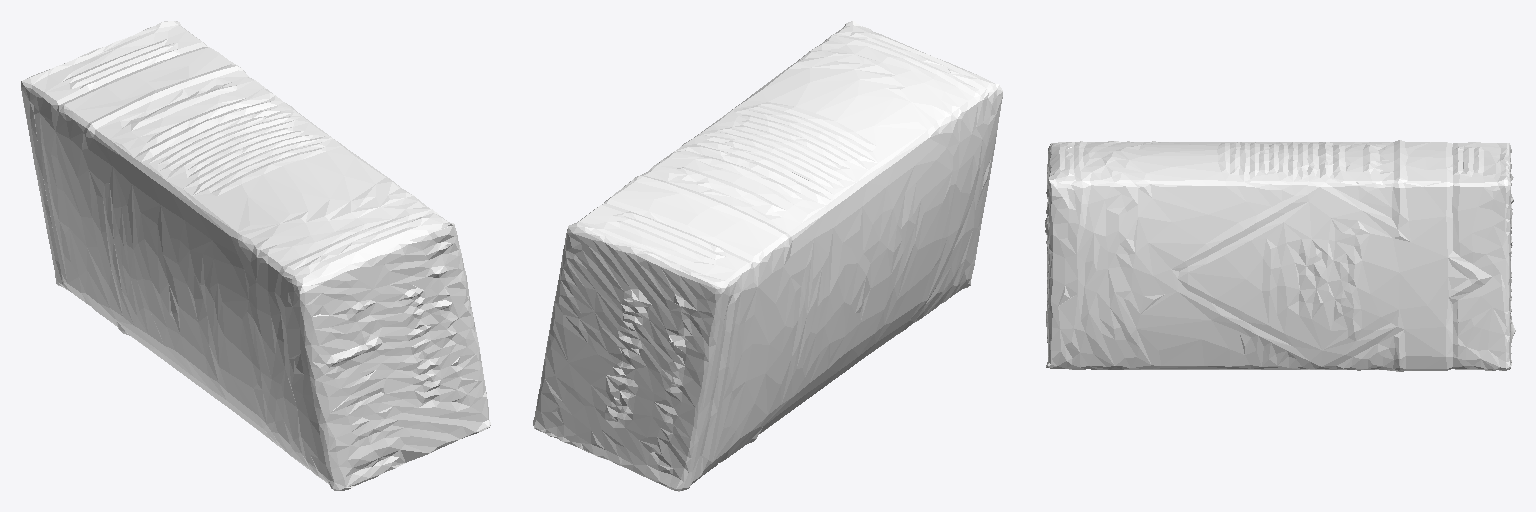
URDF robot description (BlueSaltCube_5k_tex):
<?xml version="1.0" ?>
<robot name="BlueSaltCube_5k_tex">
 <link name="baseLink">
   <contact>
     <lateral_friction value="0.5"/>
   </contact>
   <inertial>
     <origin rpy="0 0 0" xyz="0.0055297770000000005 0.033063351 0.000412687"/>
      <mass value="1.0"/>
      <inertia ixx="926084800.000000" ixy="-2189141.750000" ixz="9807323.000000" iyy="245418672.000000" iyz="503707.250000" izz="875386816.000000"/>
   </inertial>
   <visual>
     <origin rpy="0 0 0" xyz="0 0 0"/>
     <geometry>
       <mesh filename="BlueSaltCube_5k_tex.obj" scale="0.001 0.001 0.001"/>
     </geometry>
      <material name="white">
       <color rgba="1 1 1 1"/>
     </material>
   </visual>
   <collision>
     <origin rpy="0 0 0" xyz="0 0 0"/>
     <geometry>
       <mesh filename="BlueSaltCube_5k_tex_vhacd2.obj" scale="0.001 0.001 0.001"/>
     </geometry>
   </collision>
 </link>
</robot>

--- Render facts (derived) ---
The picture shows the robot from 3 angles, left to right: view 1: azimuth 30°, elevation 25°; view 2: azimuth 150°, elevation 25°; view 3: azimuth 270°, elevation 25°; orthographic projection.
Robot: BlueSaltCube_5k_tex — 1 links, 0 joints (none); root link baseLink; default pose: every joint at zero.
Links seen in each view (by area): view 1: baseLink; view 2: baseLink; view 3: baseLink.
Boxes of the visible links, left/top/right/bottom form: baseLink: left=21, top=21, right=490, bottom=490; baseLink: left=533, top=21, right=1002, bottom=491; baseLink: left=1045, top=140, right=1515, bottom=371.
Bounding box of the posed robot: 0.0575 × 0.1469 × 0.0685 m (x, y, z).
Meshes: 1 distinct files referenced, 1 mesh visuals loaded (1 OBJ).